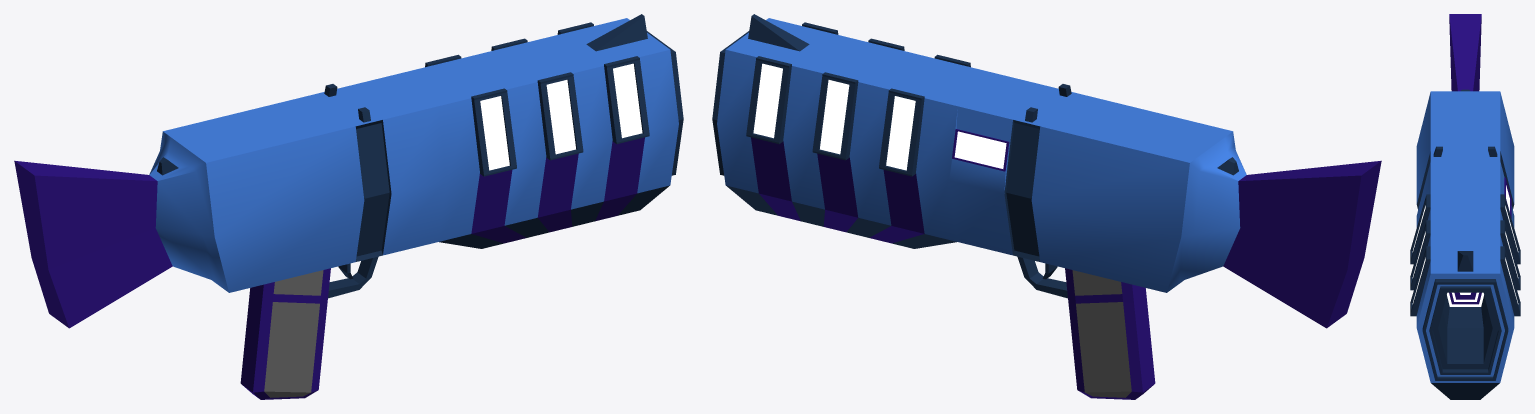
The model's file is WaterGun.glb.
The picture shows the model from 3 angles, left to right: view 1: azimuth 30°, elevation 25°; view 2: azimuth 150°, elevation 25°; view 3: azimuth 270°, elevation 25°; orthographic projection. The views are drawn at different scales.
Parts seen in each view (by area): view 1: Cylinder_0; view 2: Cylinder_0; view 3: Cylinder_0.
Boxes of the visible parts, left/top/right/bottom form: Cylinder_0: left=14, top=14, right=683, bottom=399; Cylinder_0: left=712, top=14, right=1381, bottom=399; Cylinder_0: left=1410, top=14, right=1520, bottom=399.
Size of the model in its own units: 8.45 by 3.79 by 1.58.
